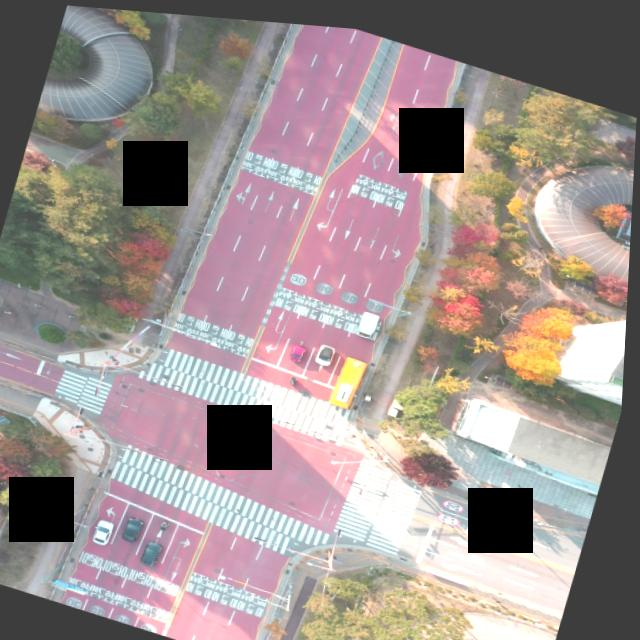car: (96, 516, 119, 544), (126, 514, 148, 541), (143, 537, 165, 564), (317, 337, 339, 361), (292, 337, 309, 357)
large_bus: (327, 346, 369, 404)
small_truck: (357, 303, 383, 334)
